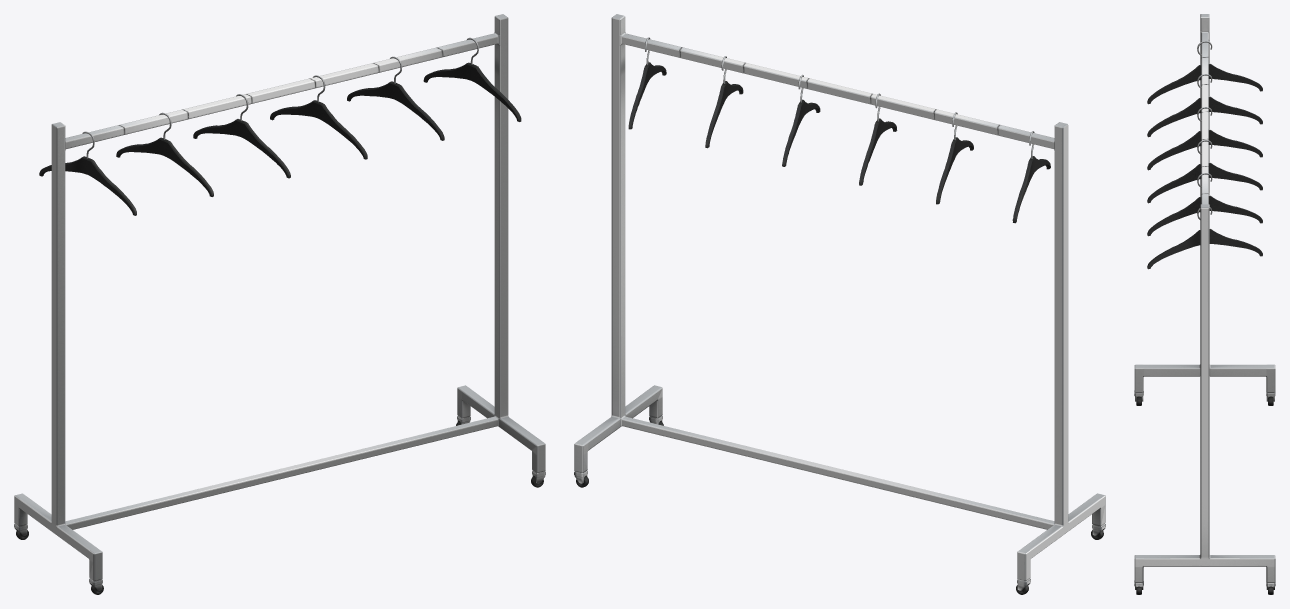
The model's file is ravenna.glb.
3 views of the same model, side by side, from view 1: azimuth 30°, elevation 25°; view 2: azimuth 150°, elevation 25°; view 3: azimuth 270°, elevation 25° (orthographic). The views are drawn at different scales.
Visible parts, largest first — view 1: ravenna_150-chrome; view 2: ravenna_150-chrome; view 3: ravenna_150-chrome.
Part boxes in pixels (<box>): ravenna_150-chrome: <box>14,14,545,594</box>; ravenna_150-chrome: <box>574,14,1105,594</box>; ravenna_150-chrome: <box>1134,14,1275,594</box>.
Size of the model in its own units: 1.5 by 1.4 by 0.4602.
1 material, 1 textured.
